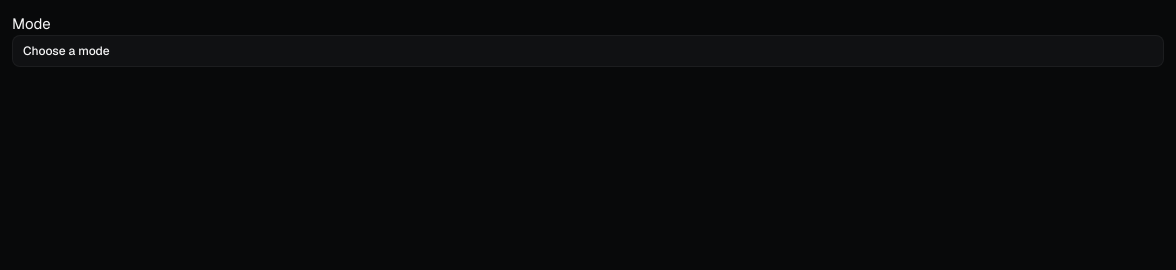
Test: custom options update the field and preserve required empty values in forms
Press ArrowDown in the dropdown labelled "mode", box 12,35 -> 1164,67
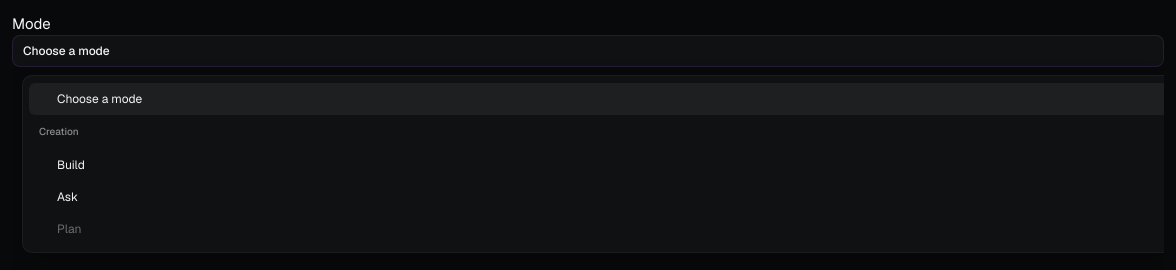
Click the option "Build". click: (71, 165)
box: 57,157 -> 85,173
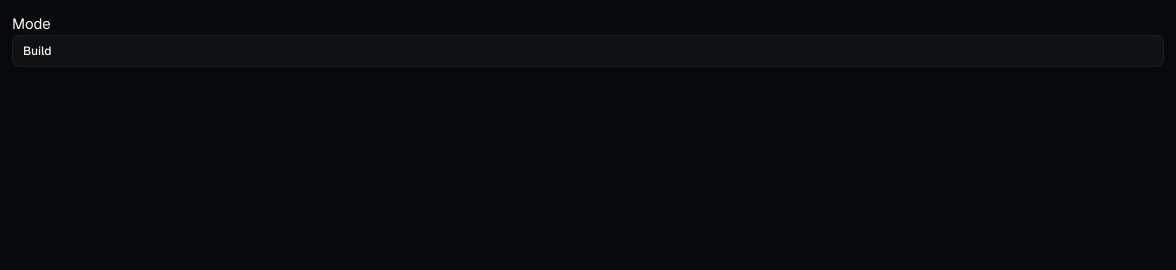
Expected: the dropdown named "Mode" reads "Build"
Press ArrowDown in the dropdown named "Mode", box 12,35 -> 1164,67
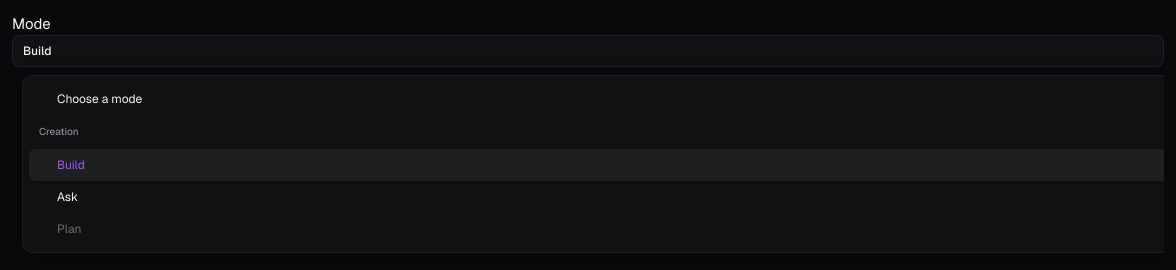
Click the option "Choose a mode". click: (100, 99)
box: 57,91 -> 142,107
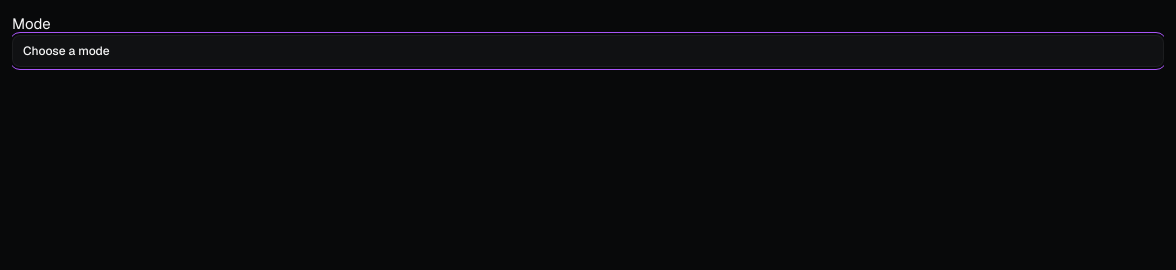
Expected: the dropdown labelled "mode" reads "Choose a mode", 12,35 -> 1164,67
